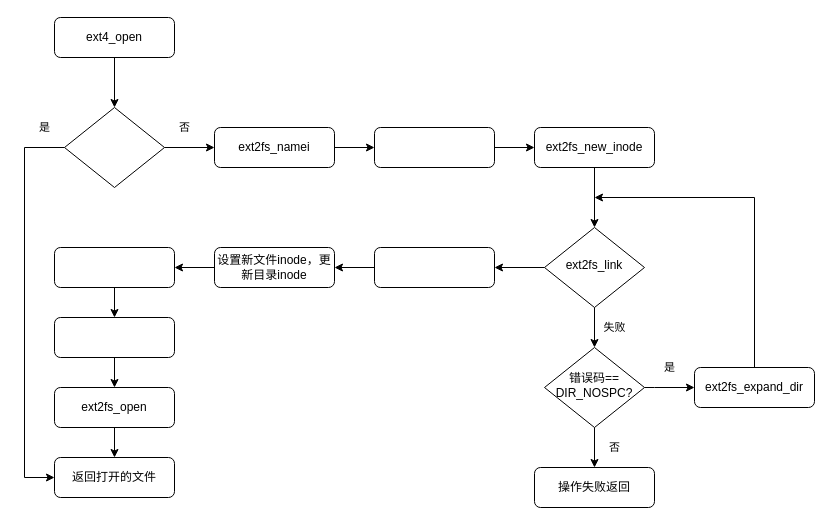
The diagram is 832 pixels wide and 525 high, and some of its shapes have lost their labels. Here are the shapes that lost their labels. From the top down, the centre of each, then its label:
At point 114,147: "文件是否 存在？".
At point 434,147: "ext2fs_readinode".
At point 114,267: "ext2fs_write_new_ inode".
At point 434,267: "ext2fs_inode_alloc _stats".
At point 114,337: "ext2fs_write_inode".
